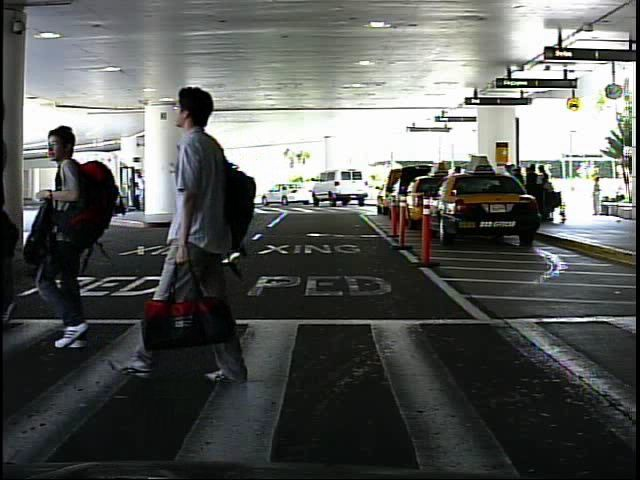person: (143, 80, 264, 396), (29, 117, 122, 354), (51, 171, 70, 220), (588, 173, 607, 219)
